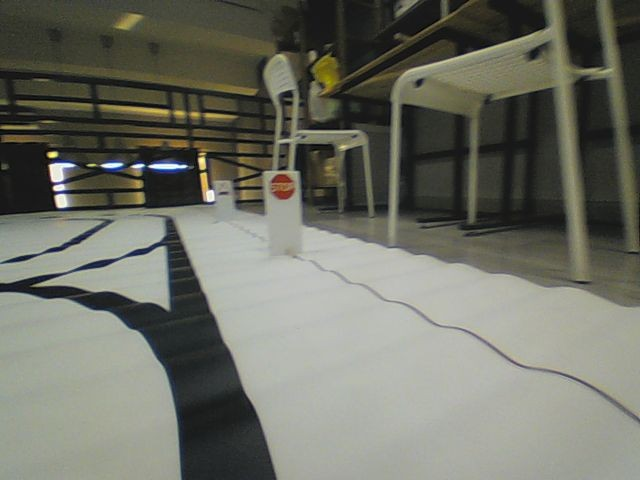Stop: (269, 174, 295, 200)
